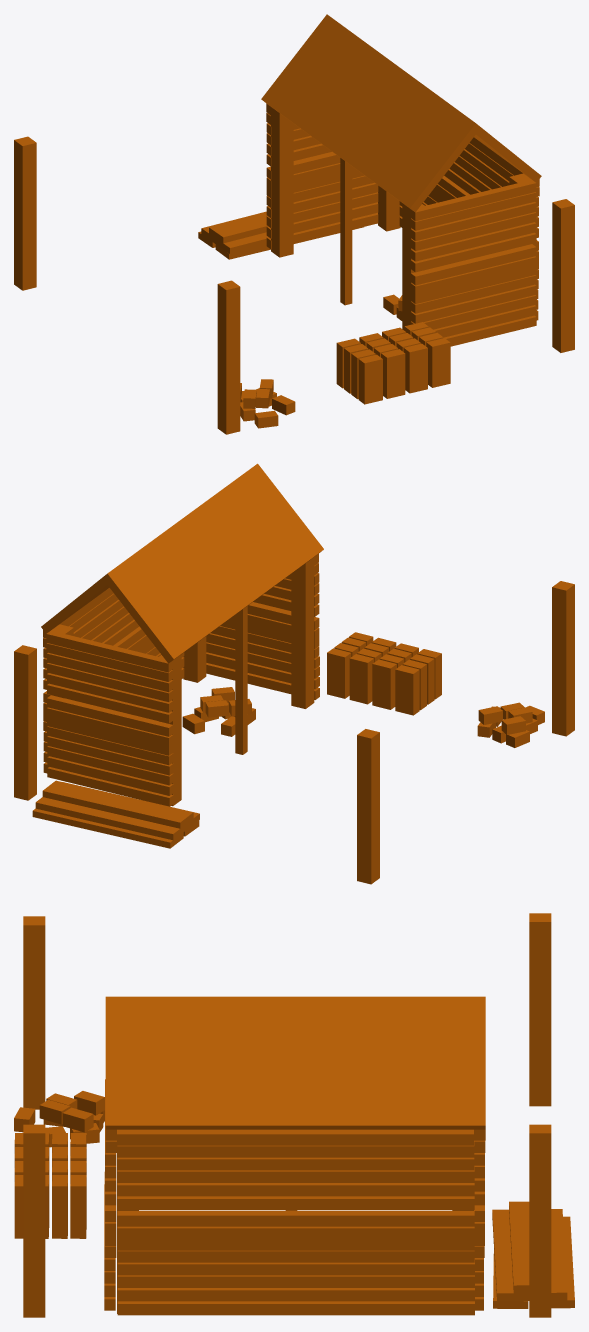
Rendered from Mine.fbx.
The picture shows the model from 3 angles, top to bottom: view 1: azimuth 30°, elevation 25°; view 2: azimuth 150°, elevation 25°; view 3: azimuth 270°, elevation 25°; orthographic projection. The views are drawn at different scales.
Visible parts, largest first — view 1: Cube.019, Cube.169, Cube.170, Cube.168, Cube.032, Cube.017, Cube.058, Cube.076, Cube.070, Cube.075, Cube.074, Cube.072 (+22 smaller); view 2: Cube.019, Cube.169, Cube.020, Cube.168, Cube.040, Cube.057, Cube.017, Cube.055, Cube.058, Cube.062, Cube.015, Cube.061 (+23 smaller); view 3: Cube.017, Cube.001, Cube.007, Cube.014, Cube.005, Cube.006, Cube.008, Cube.011, Cube.013, Cube.003, Cube.002, Cube.004 (+14 smaller).
Boxes of the visible parts, bbox=[...] form: Cube.019: bbox=[261, 21, 475, 212]; Cube.169: bbox=[217, 280, 240, 434]; Cube.170: bbox=[552, 199, 574, 352]; Cube.168: bbox=[14, 136, 36, 290]; Cube.032: bbox=[271, 107, 293, 257]; Cube.017: bbox=[322, 14, 541, 182]; Cube.058: bbox=[340, 158, 352, 305]; Cube.076: bbox=[411, 244, 536, 285]; Cube.070: bbox=[411, 180, 536, 221]; Cube.075: bbox=[411, 232, 536, 272]; Cube.074: bbox=[411, 222, 536, 261]; Cube.072: bbox=[411, 202, 536, 241]; Cube.019: bbox=[107, 470, 323, 663]; Cube.169: bbox=[552, 581, 574, 736]; Cube.020: bbox=[14, 645, 36, 800]; Cube.168: bbox=[357, 729, 379, 884]; Cube.040: bbox=[291, 557, 314, 708]; Cube.057: bbox=[42, 780, 193, 828]; Cube.017: bbox=[41, 463, 262, 633]; Cube.055: bbox=[35, 797, 186, 840]; Cube.058: bbox=[235, 606, 247, 754]; Cube.062: bbox=[47, 695, 173, 736]; Cube.015: bbox=[46, 630, 172, 672]; Cube.061: bbox=[47, 683, 173, 723]; Cube.017: bbox=[105, 996, 485, 1129]; Cube.001: bbox=[117, 1129, 473, 1145]; Cube.007: bbox=[117, 1210, 474, 1226]; Cube.014: bbox=[117, 1301, 474, 1315]; Cube.005: bbox=[117, 1183, 474, 1196]; Cube.006: bbox=[117, 1196, 474, 1209]; Cube.008: bbox=[117, 1226, 474, 1239]; Cube.011: bbox=[117, 1260, 474, 1275]; Cube.013: bbox=[117, 1288, 474, 1301]; Cube.003: bbox=[117, 1157, 474, 1170]; Cube.002: bbox=[117, 1142, 474, 1157]; Cube.004: bbox=[117, 1167, 474, 1182].
Size of the model in its own units: 2060 by 1247 by 2209.
